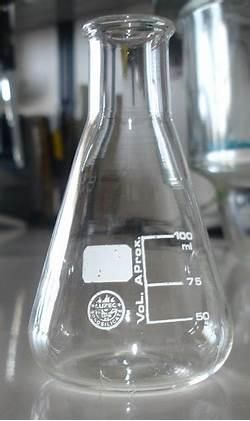Titrarion: (23, 17, 234, 391)
